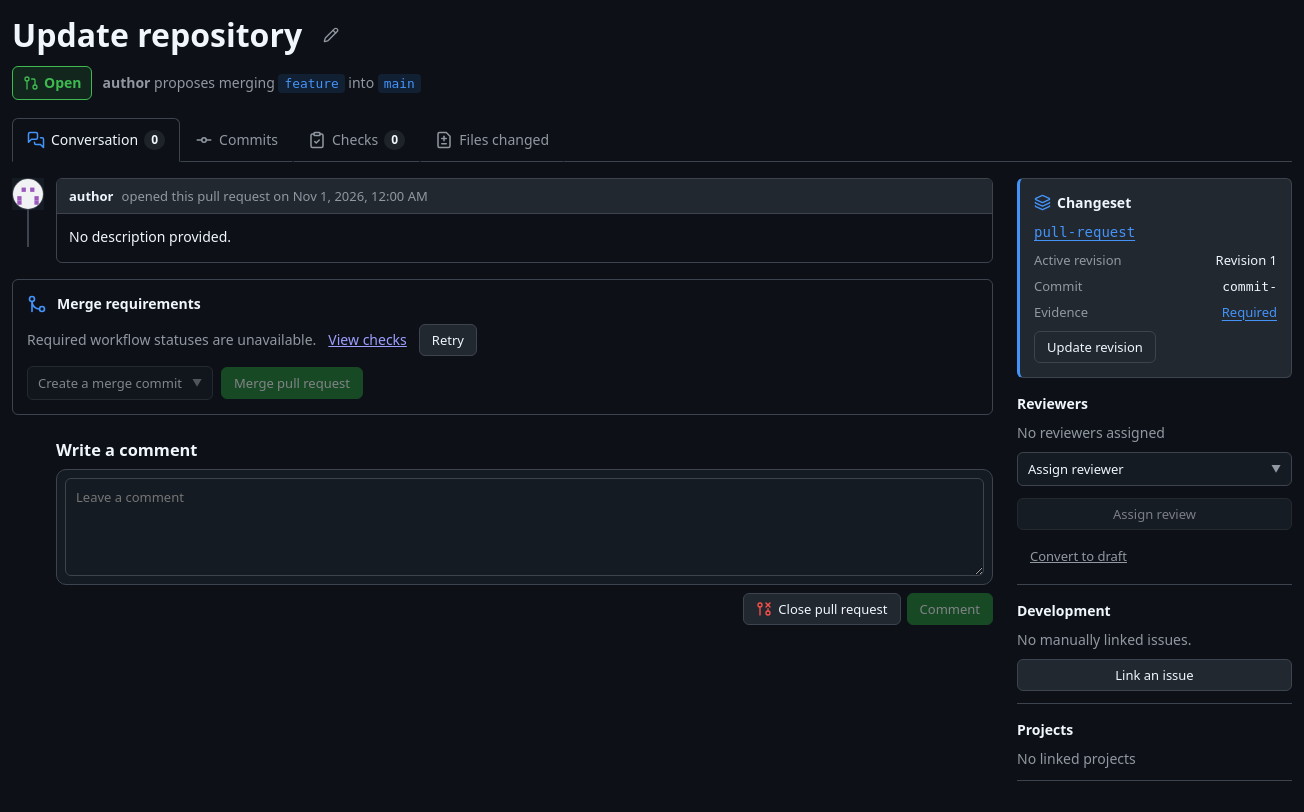
PullRequestDetailPage › blocks Merge through loading, unavailable and stale results and retries against the active revision
This screenshot has width=1304, height=812.
Expected: the text "Required workflow statuses are unavailable." is shown, [27,330,316,349]
Expected: the button "Merge pull request" is disabled, [221,367,363,399]
Click the button "Retry".
click(448, 340)  # box [419,324,477,356]
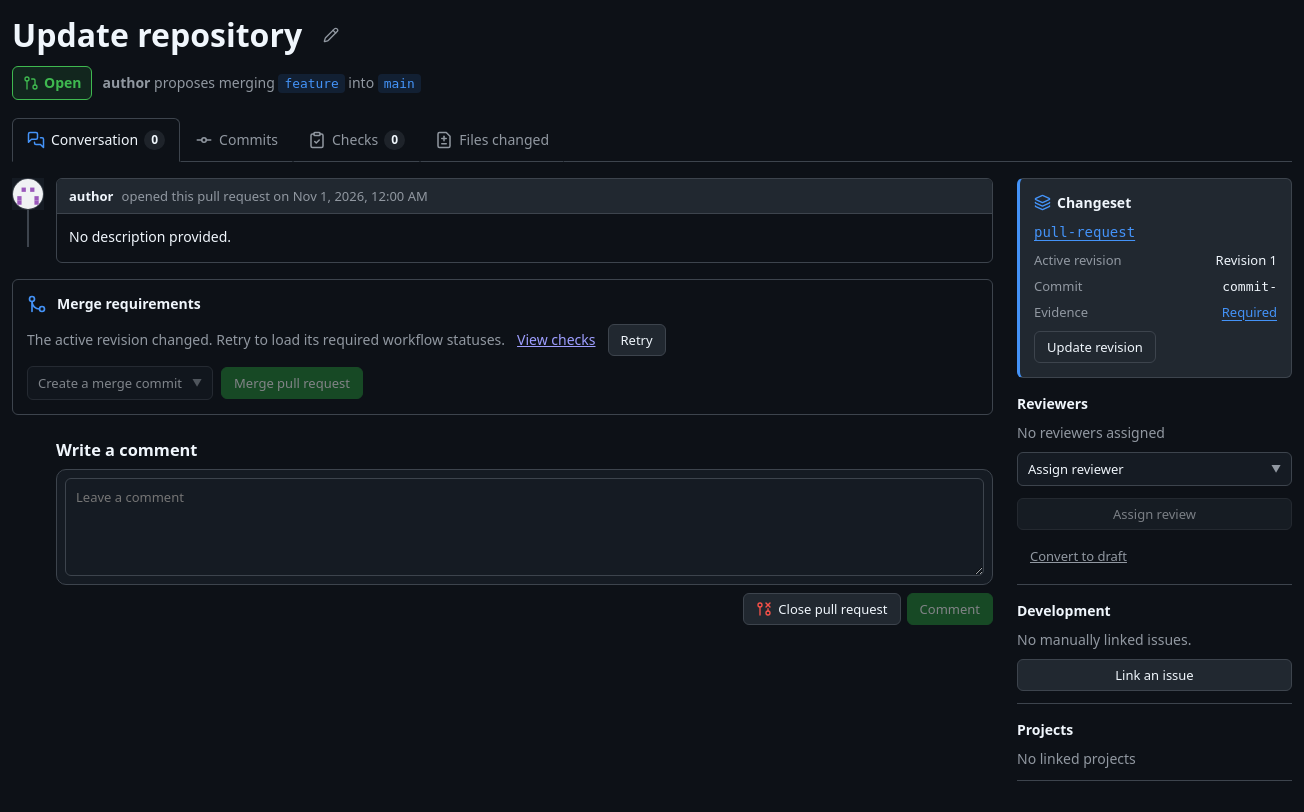
Expected: the button "Merge pull request" is disabled, [221,367,363,399]
Expected: the text "The active revision changed. Retry to load its required workflow statuses." is shown, [27,330,505,349]
Click the button "Retry".
click(637, 340)  # box [608,324,666,356]
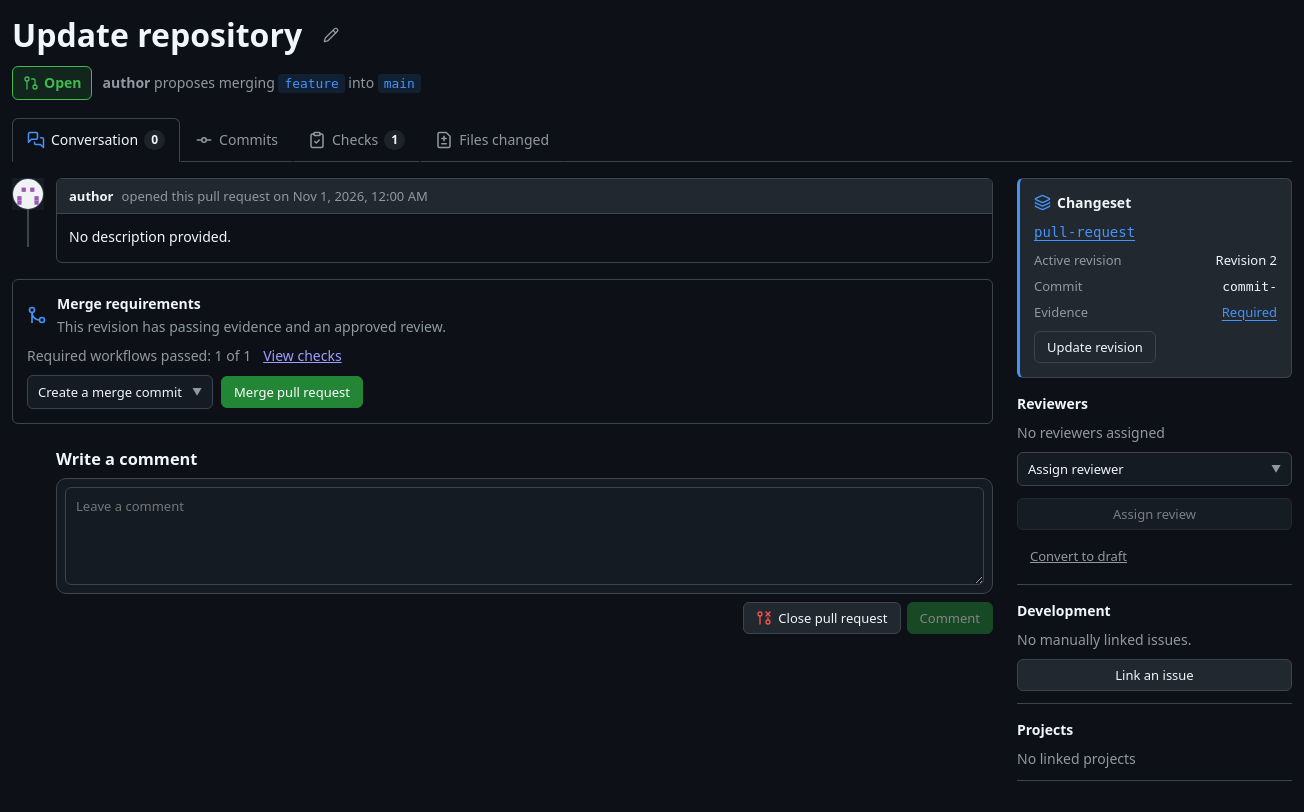
Expected: the button "Merge pull request" is enabled, [221,376,363,408]
